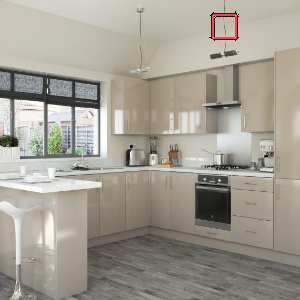square: (209, 11, 241, 41)
